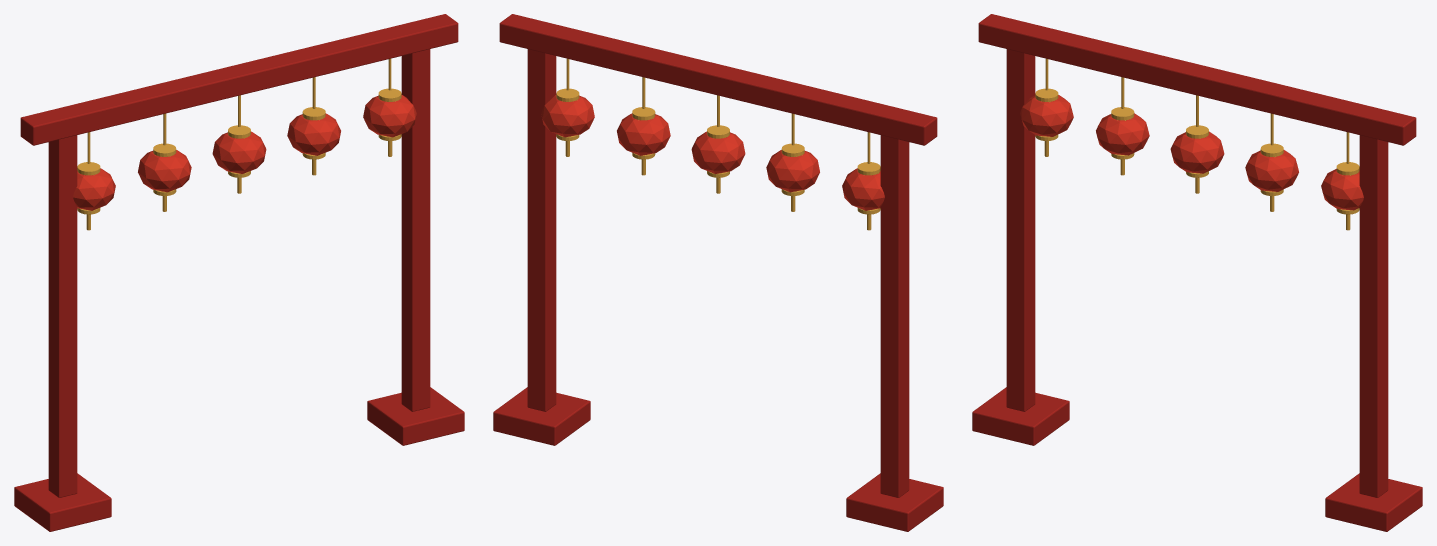
The picture shows the model from 3 angles, left to right: view 1: azimuth 30°, elevation 25°; view 2: azimuth 150°, elevation 25°; view 3: azimuth 330°, elevation 25°; orthographic projection.
Parts seen in each view (by area): view 1: ARCH_Crossbeam, ARCH_Post.001, ARCH_Post, ARCH_Base, ARCH_Base.001, LANTERN_Shade.003, LANTERN_Shade.002, LANTERN_Shade.001, LANTERN_Shade.004, LANTERN_Shade; view 2: ARCH_Crossbeam, ARCH_Post.001, ARCH_Post, ARCH_Base, ARCH_Base.001, LANTERN_Shade.003, LANTERN_Shade.002, LANTERN_Shade.001, LANTERN_Shade.004, LANTERN_Shade; view 3: ARCH_Crossbeam, ARCH_Post, ARCH_Post.001, ARCH_Base.001, ARCH_Base, LANTERN_Shade.001, LANTERN_Shade.002, LANTERN_Shade.003, LANTERN_Shade, LANTERN_Shade.004.
Boxes of the visible parts, x1,y1,x2,y2 form: ARCH_Crossbeam: [20, 14, 458, 145]; ARCH_Post.001: [48, 135, 77, 497]; ARCH_Post: [401, 49, 430, 411]; ARCH_Base: [367, 387, 464, 445]; ARCH_Base.001: [14, 473, 111, 531]; LANTERN_Shade.003: [287, 113, 340, 155]; LANTERN_Shade.002: [212, 131, 266, 173]; LANTERN_Shade.001: [138, 150, 191, 192]; LANTERN_Shade.004: [363, 95, 416, 137]; LANTERN_Shade: [73, 168, 115, 210]; ARCH_Crossbeam: [499, 14, 937, 145]; ARCH_Post.001: [880, 135, 909, 497]; ARCH_Post: [527, 49, 556, 411]; ARCH_Base: [493, 387, 590, 445]; ARCH_Base.001: [846, 473, 943, 531]; LANTERN_Shade.003: [617, 113, 670, 155]; LANTERN_Shade.002: [691, 131, 745, 173]; LANTERN_Shade.001: [766, 150, 819, 192]; LANTERN_Shade.004: [541, 95, 594, 137]; LANTERN_Shade: [842, 168, 884, 210]; ARCH_Crossbeam: [978, 14, 1416, 145]; ARCH_Post: [1359, 135, 1388, 497]; ARCH_Post.001: [1006, 49, 1035, 411]; ARCH_Base.001: [972, 387, 1069, 445]; ARCH_Base: [1325, 473, 1422, 531]; LANTERN_Shade.001: [1096, 113, 1149, 155]; LANTERN_Shade.002: [1170, 131, 1224, 173]; LANTERN_Shade.003: [1245, 150, 1298, 191]; LANTERN_Shade: [1020, 95, 1073, 136]; LANTERN_Shade.004: [1321, 169, 1363, 210].
Bounding box in the file's own units: 4.1 × 3.67 × 0.6.
